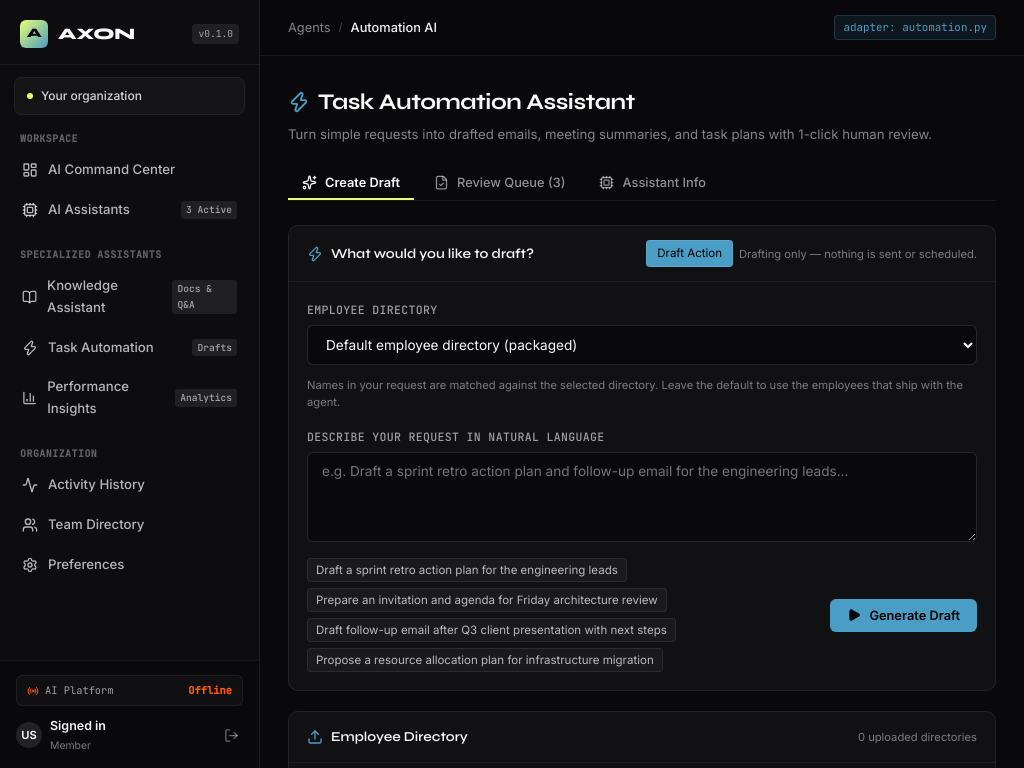
it: AutomationAIPage directory selection › shows the default directory was used when nothing is selected
The width and height of the screenshot is (1024, 768).
Type "Draft a standup with Navneet" into the text box.
click(642, 497); type("Draft a standup with Navneet")  # box [307,452,977,542]
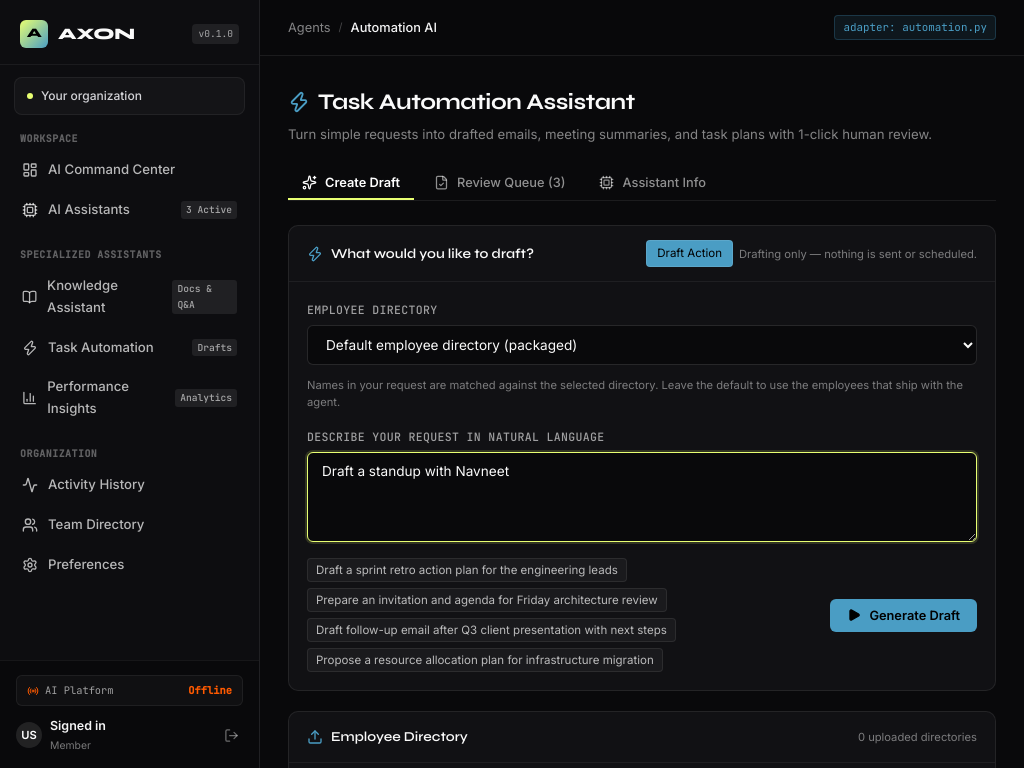
Click the button "Generate Draft".
click(904, 615)  # box [830,598,977,632]
(page scrolled)
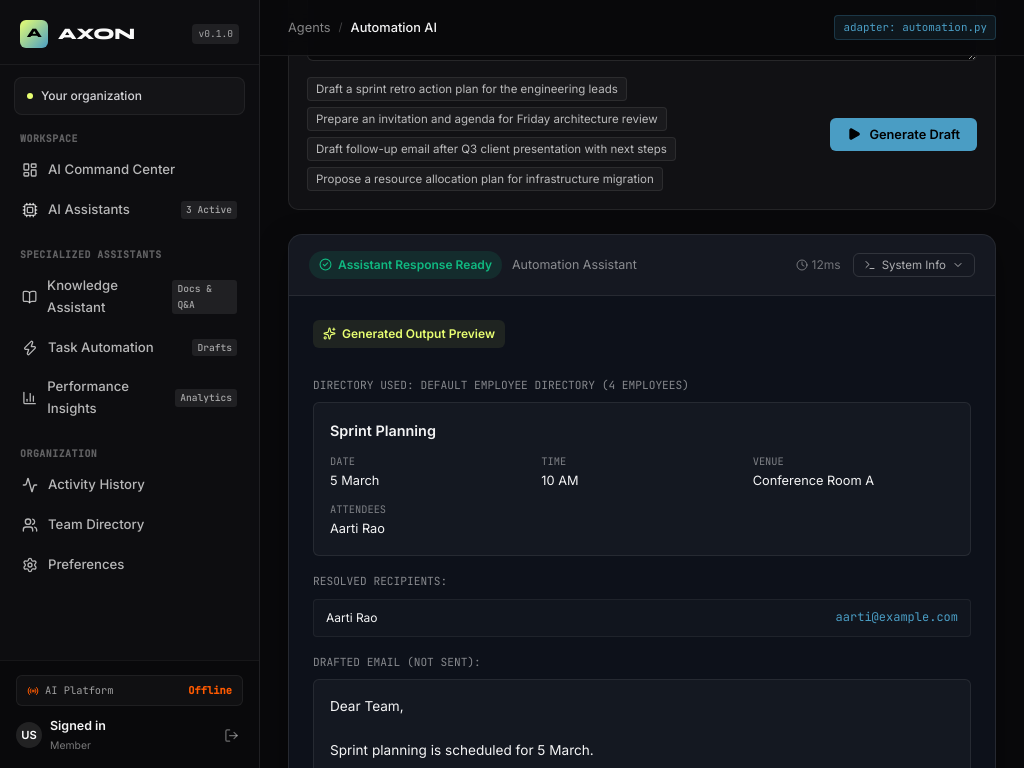
expect the text "DIRECTORY USED: Default employee directory (4 employees)" is shown: met, box [313,378,689,392]
